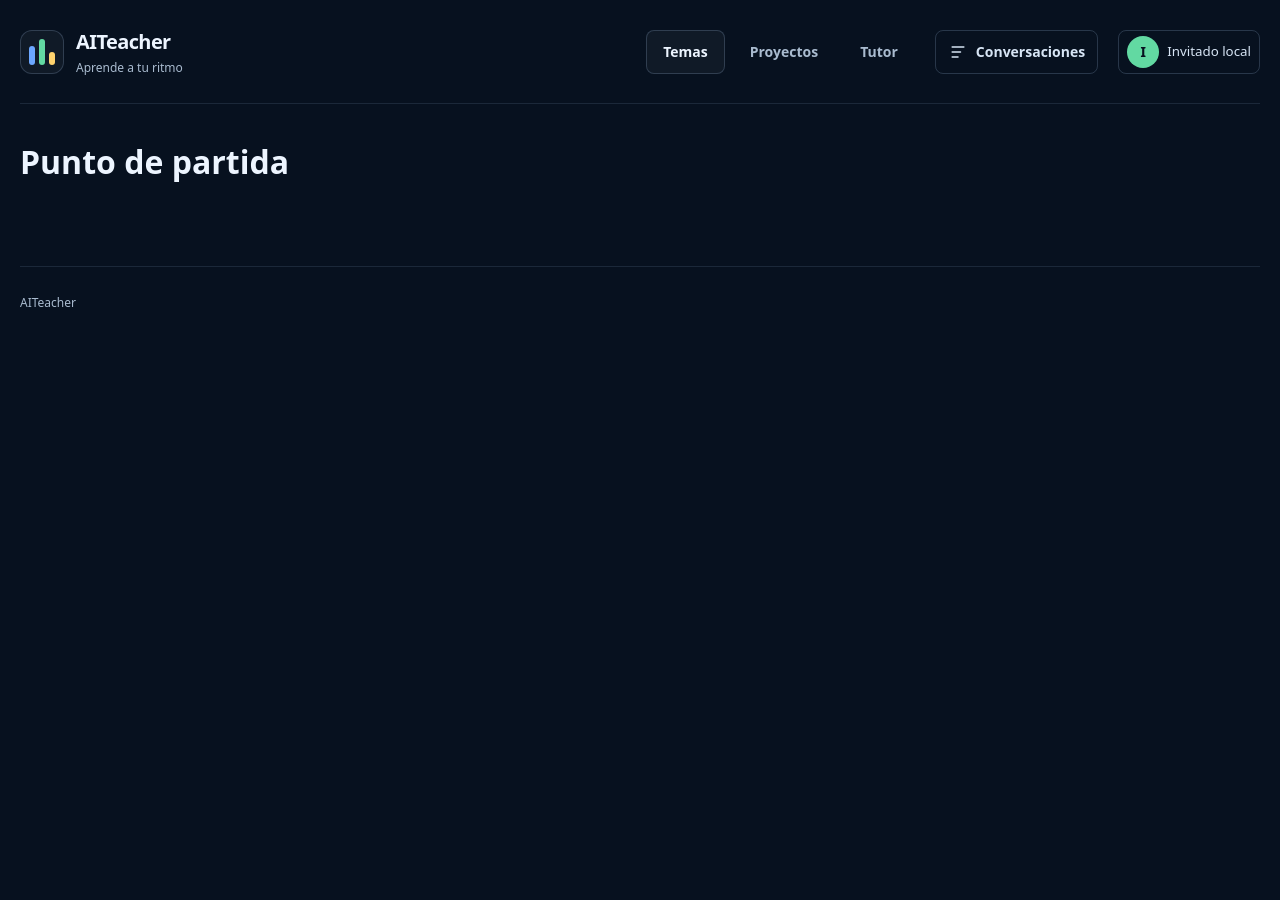
Test: SessionDrawer › nueva conversación limpia sólo la continuidad de la identidad vigente
Step 1. Click the button "Conversaciones" → [1016, 52], box [935, 30, 1098, 74]
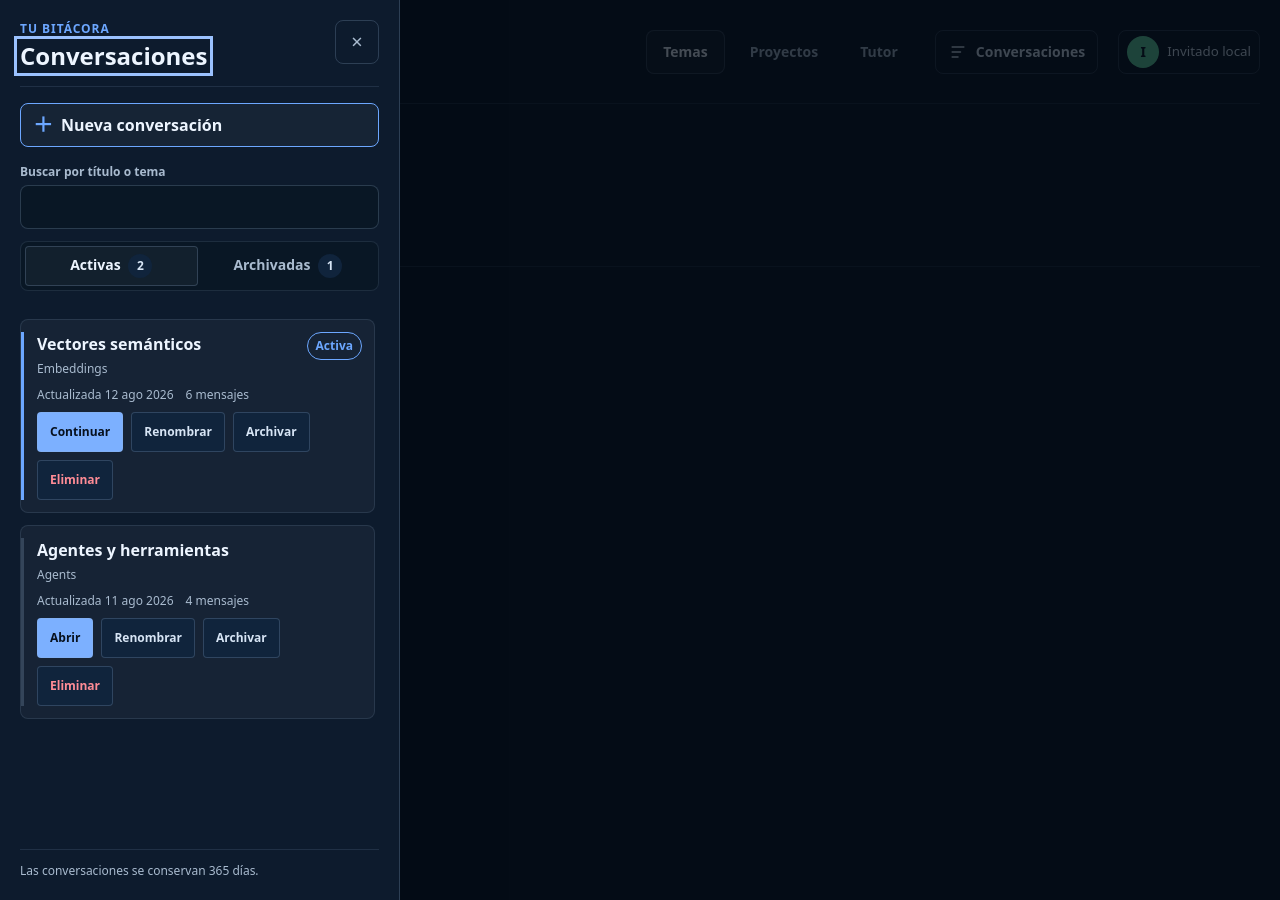
Step 2. Click the button "＋ Nueva conversación" → [200, 125], box [20, 103, 379, 147]
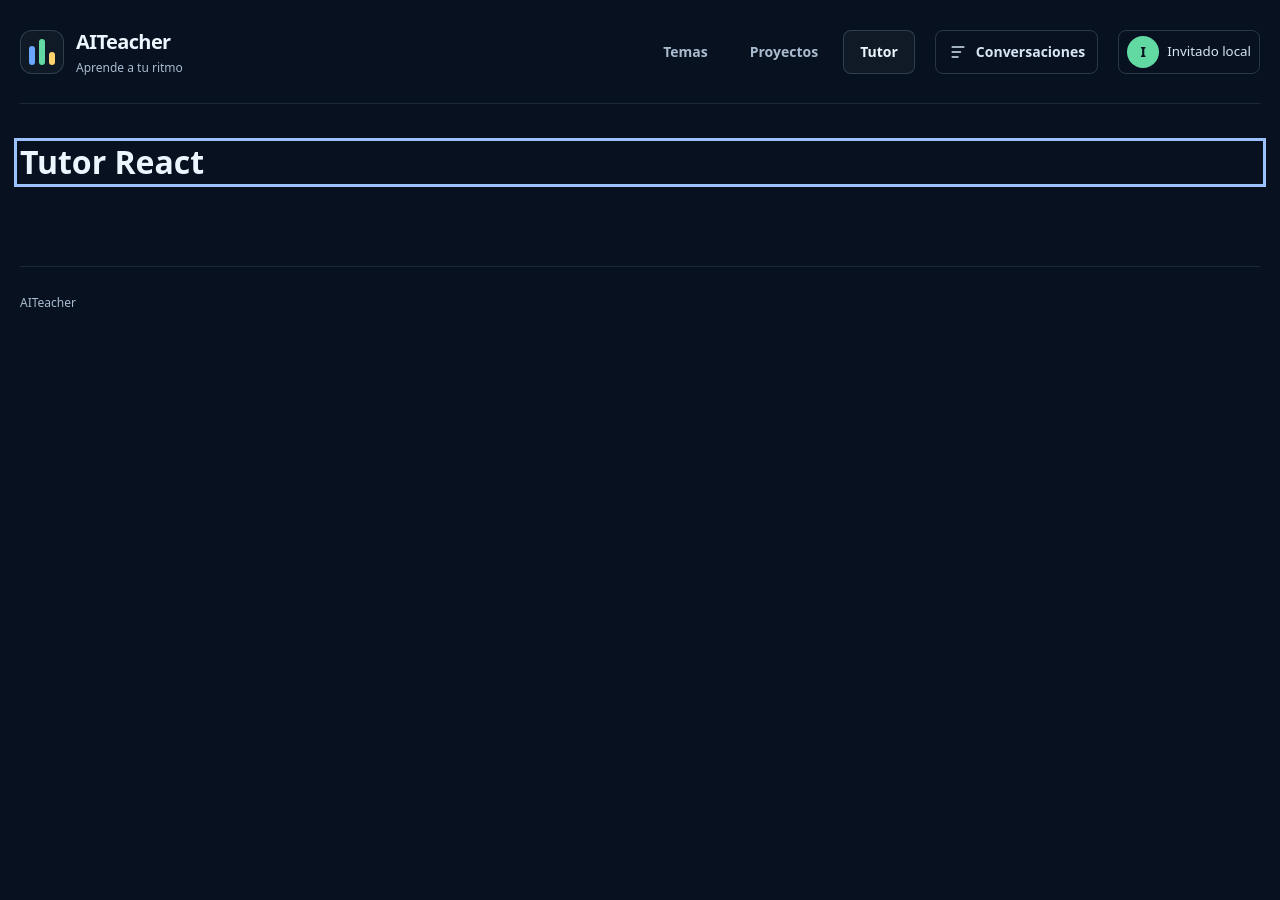
Expected: the dialog is gone
